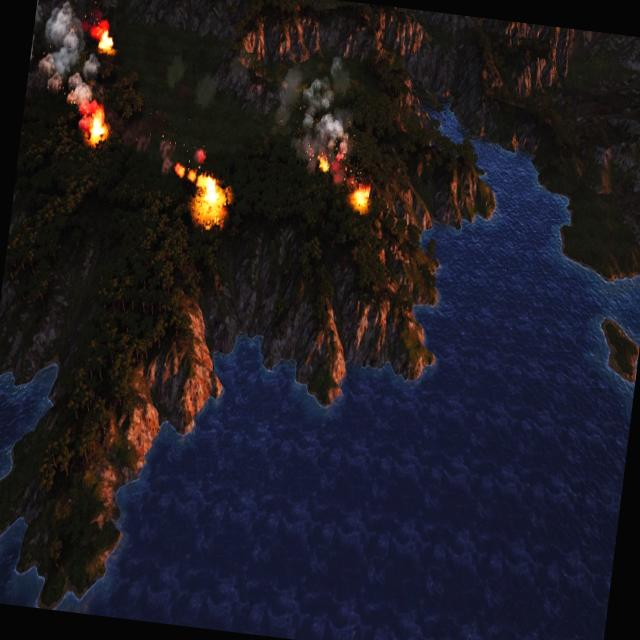fire: (188, 168, 232, 224), (79, 100, 112, 145), (89, 20, 117, 54), (352, 187, 371, 211), (318, 158, 332, 173)
smoke: (272, 54, 359, 162), (25, 0, 108, 103)
